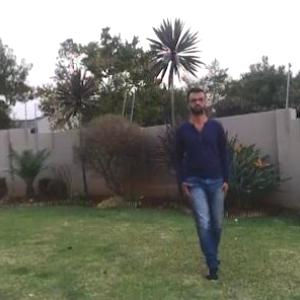follow: (167, 58, 241, 285)
